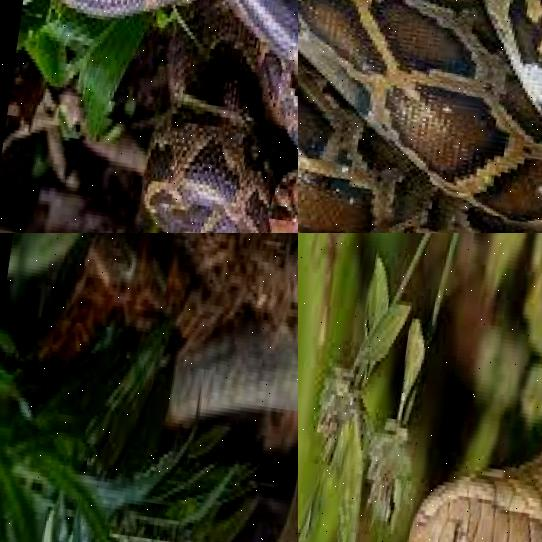snake: (0, 0, 298, 233), (78, 261, 298, 542), (298, 0, 542, 233), (394, 233, 542, 542)
